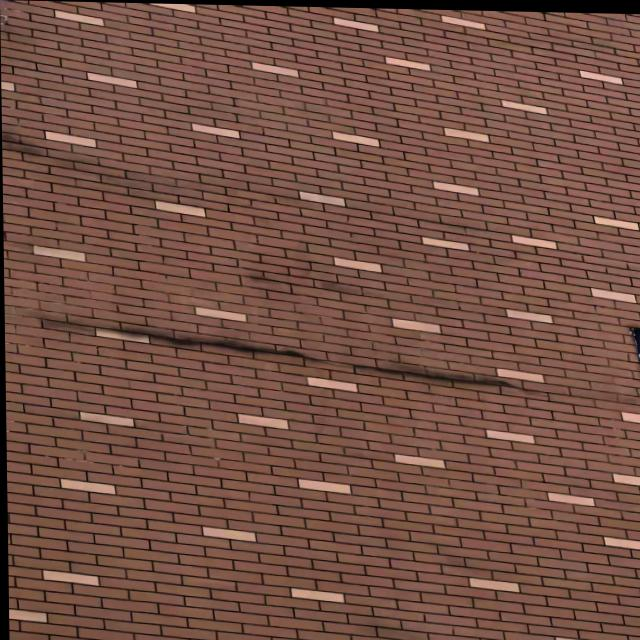crack: (35, 297, 526, 401)
